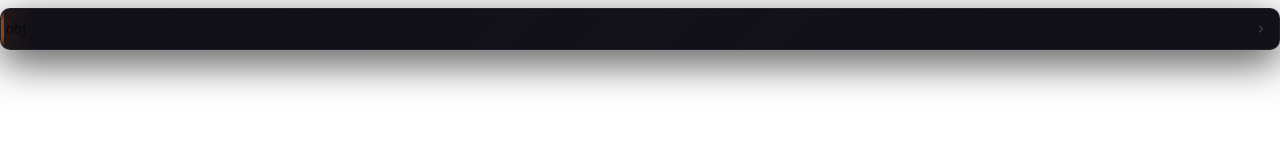
Test: CardChassis (T8) › collapse affordance (REQ-1 AC4) › respects defaultCollapsed
Check: the text "step body" is not shown
Click the button named "expand card": (1261, 29) [1251,19,1271,39]
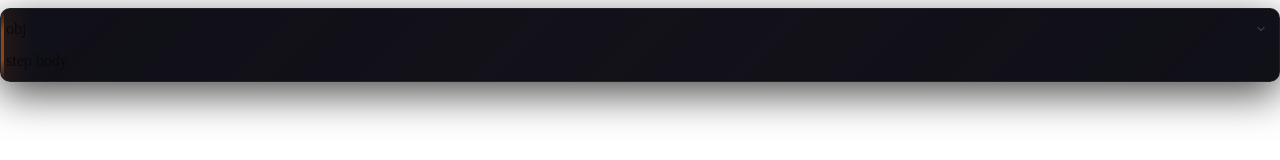
Check: the text "step body" is shown, box [6,52,68,69]
